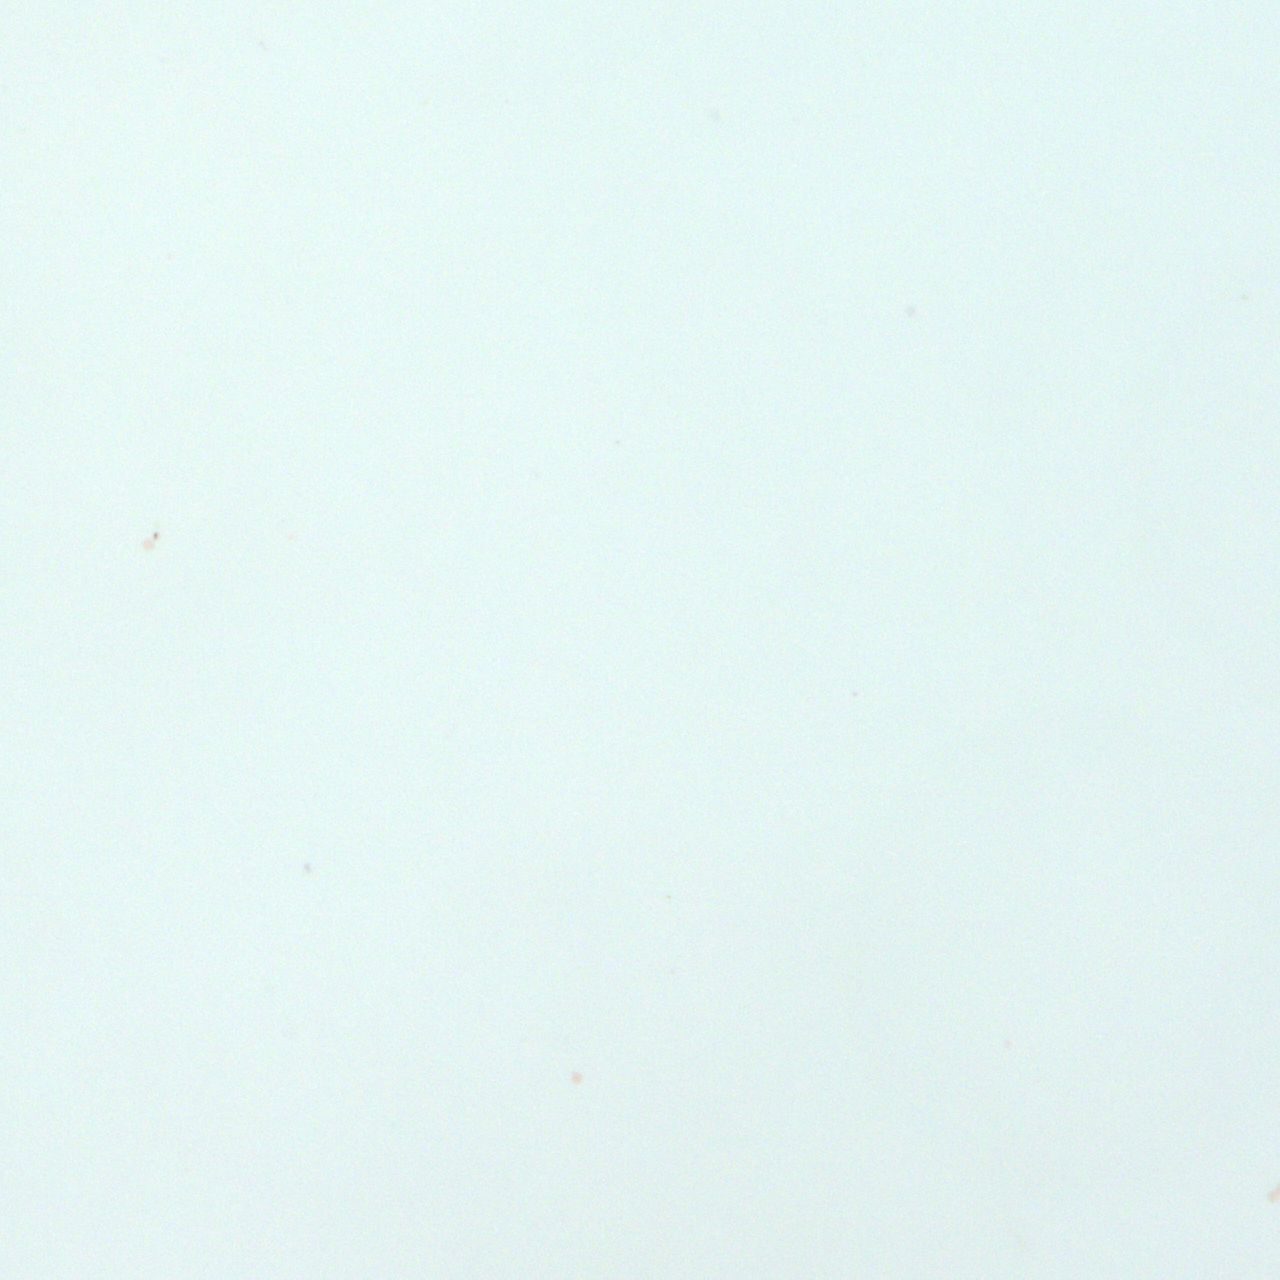dust: (133, 523, 168, 553), (567, 1071, 584, 1084)
